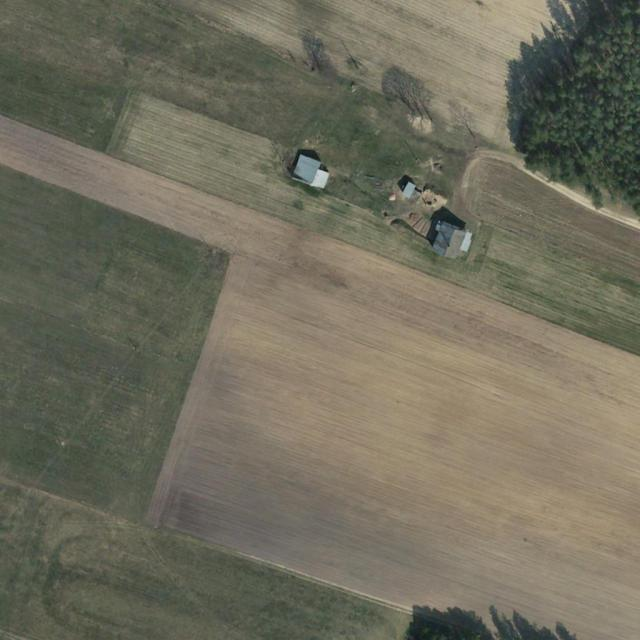agricultural_land: (105, 27, 640, 356)
building: (291, 152, 322, 185)
